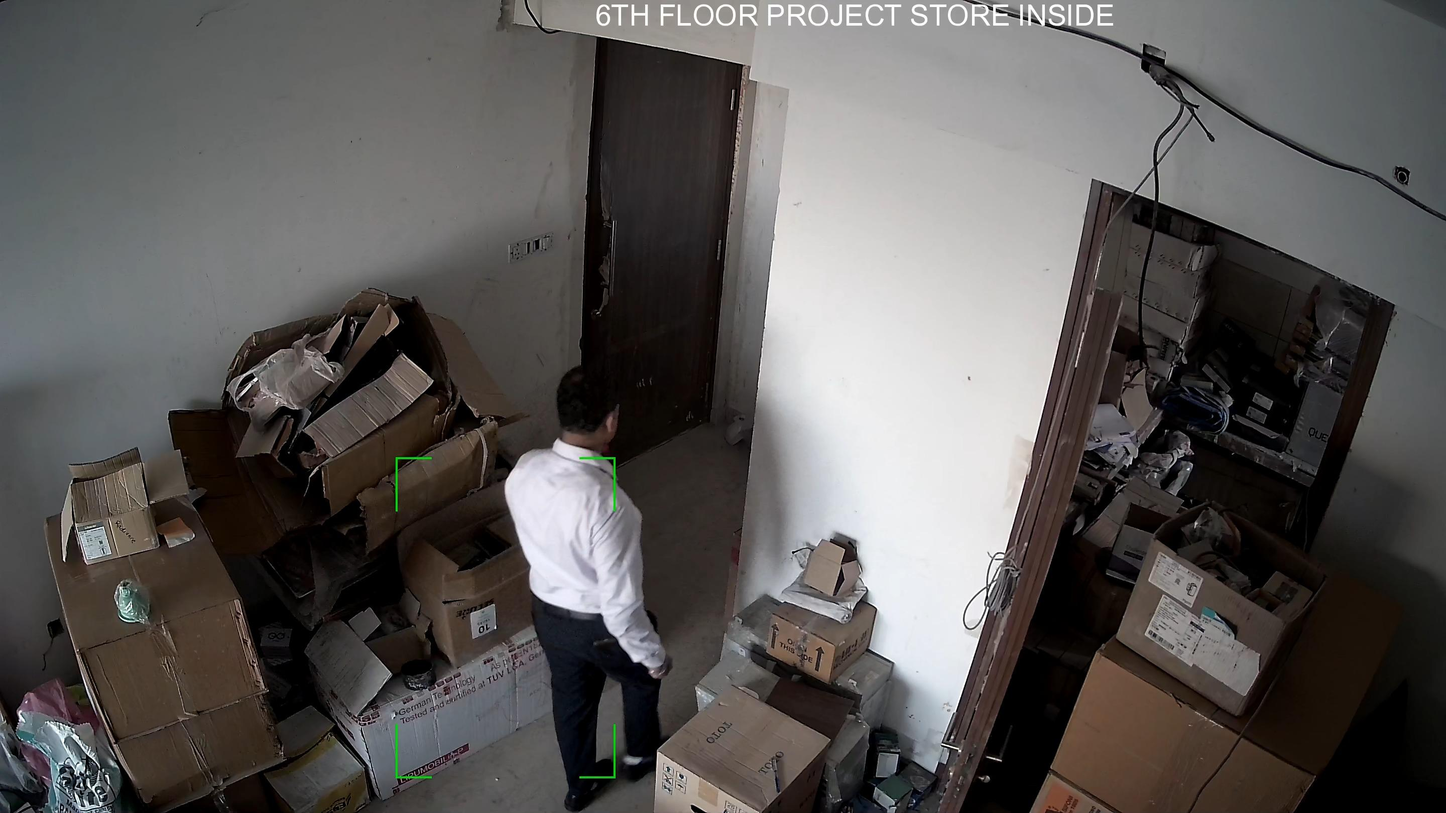Door-Close: (564, 31, 752, 468)
